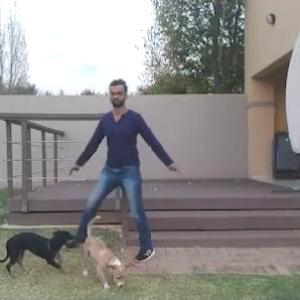land: (82, 92, 185, 262)
